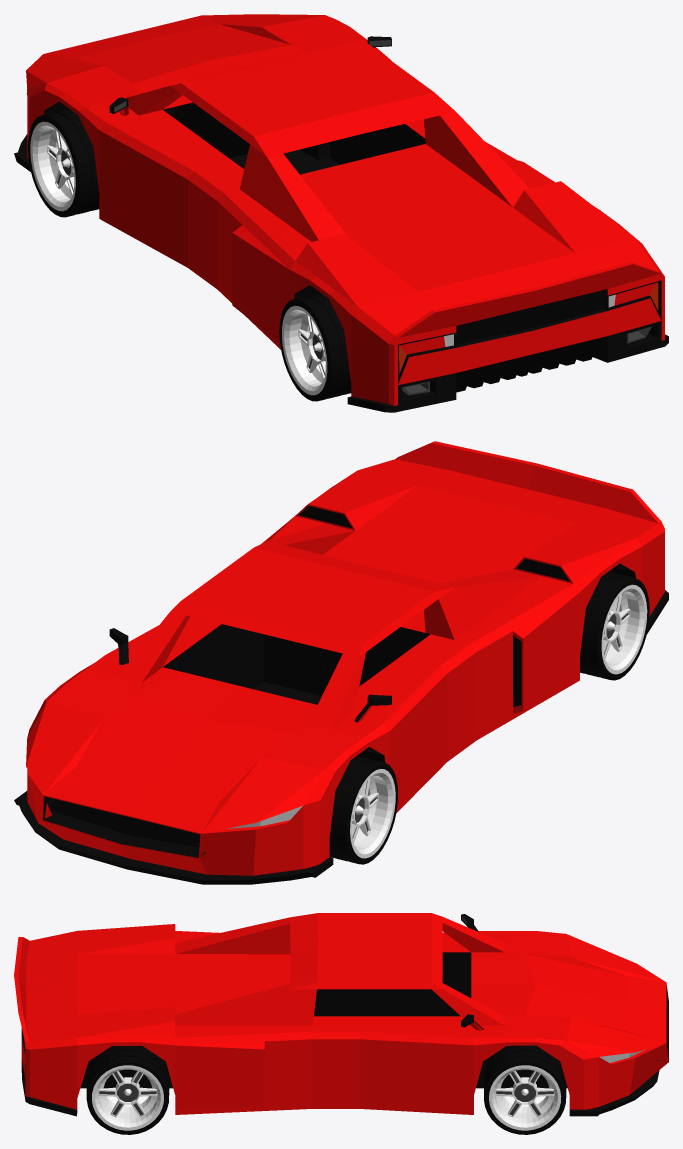
File: SuperSport_Car.obj
3 views of the same model, one above another, from view 1: azimuth 30°, elevation 25°; view 2: azimuth 150°, elevation 25°; view 3: azimuth 270°, elevation 25° (orthographic). The views are drawn at different scales.
Parts seen in each view (by area): view 1: Cilindro.002, Cubo.001, Cubo.002; view 2: Cilindro.002, Cubo.002, Cubo.001; view 3: Cilindro.002, Cubo.004, Cubo.003.
Part boxes in pixels (left/top/right/bottom): Cilindro.002: left=14, top=14, right=668, bottom=412; Cubo.001: left=28, top=109, right=99, bottom=217; Cubo.002: left=279, top=293, right=351, bottom=401; Cilindro.002: left=14, top=441, right=668, bottom=884; Cubo.002: left=580, top=571, right=649, bottom=680; Cubo.001: left=329, top=756, right=397, bottom=864; Cilindro.002: left=14, top=913, right=668, bottom=1116; Cubo.004: left=86, top=1046, right=169, bottom=1134; Cubo.003: left=484, top=1045, right=566, bottom=1134.
Bounding box in the file's own units: 5 × 2.43 × 11.35.
